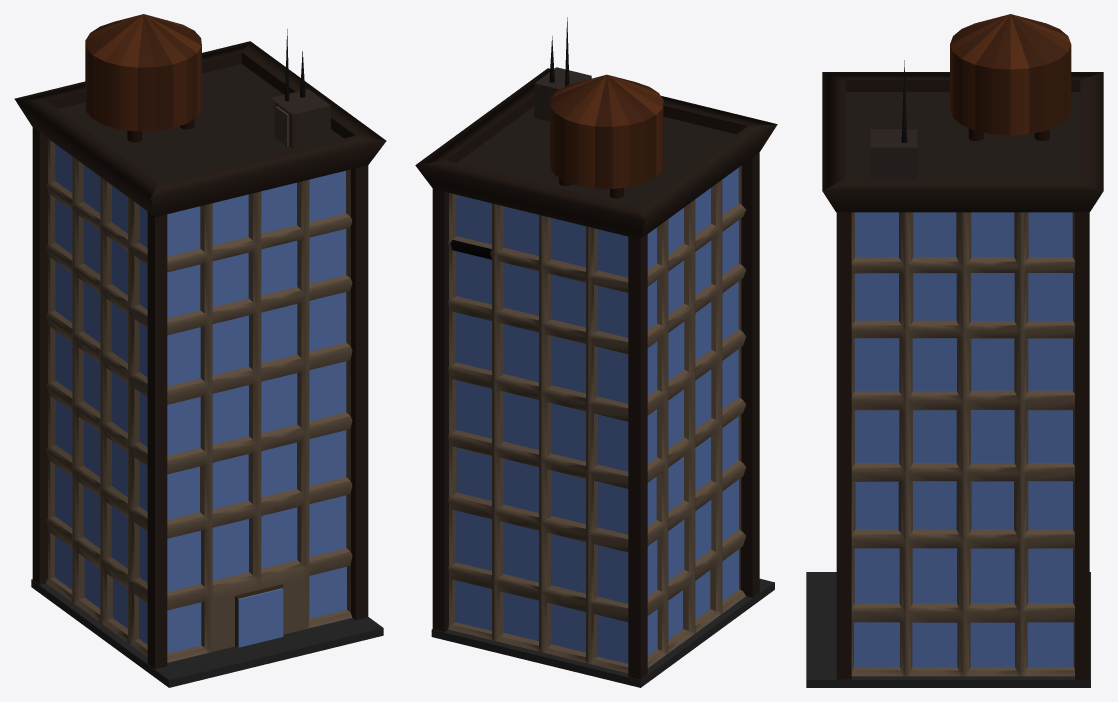
Rendered from BoxBuilding 01.fbx.
3 views of the same model, side by side, from view 1: azimuth 30°, elevation 25°; view 2: azimuth 150°, elevation 25°; view 3: azimuth 270°, elevation 25° (orthographic). The views are drawn at different scales.
Visible parts, largest first — view 1: Box_Building_1; view 2: Box_Building_1; view 3: Box_Building_1.
Boxes of the visible parts, box(x1,y1,x2,y2) form: Box_Building_1: box(14, 14, 386, 687); Box_Building_1: box(415, 17, 777, 687); Box_Building_1: box(806, 14, 1103, 687).
Size of the model in its own units: 921 by 2184 by 974.
